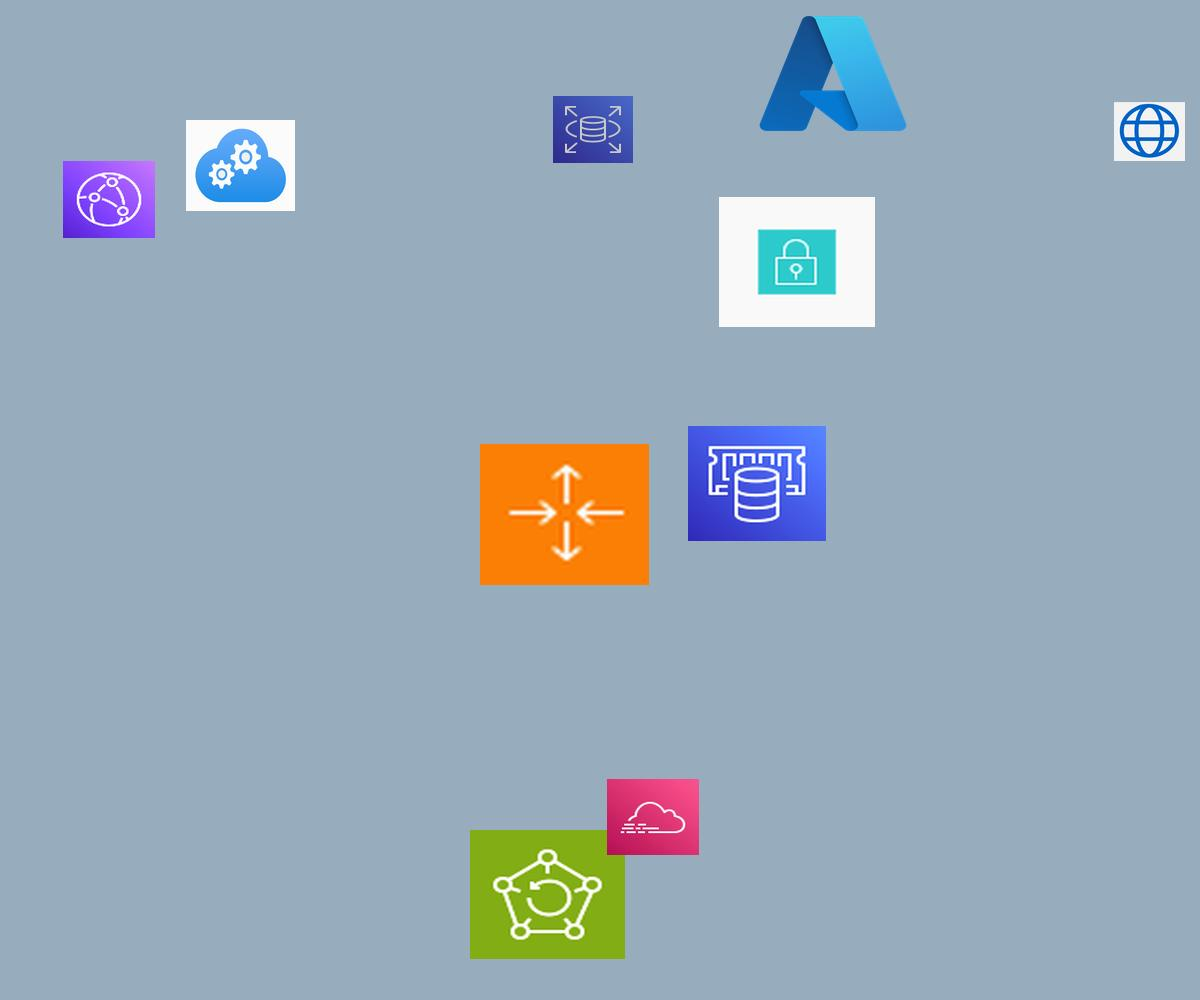AWS-Backup: (470, 830, 625, 959)
AWS-CloudFront: (63, 161, 155, 238)
AWS-CloudTrail: (607, 779, 699, 855)
AWS-ElastiCache: (688, 426, 826, 541)
AWS-Private-subnet: (719, 197, 875, 327)
AWS-RDS: (553, 96, 633, 163)
AWS-Scaling-group: (480, 444, 649, 585)
Azure_cloud_services: (186, 120, 295, 211)
Azure_http: (1114, 102, 1185, 161)
Azure_services: (753, 7, 913, 140)
